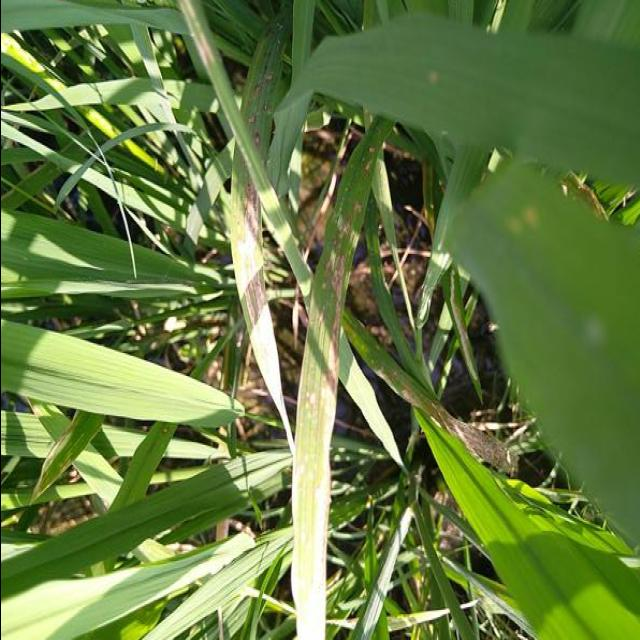Leaf Streak: (290, 121, 379, 640), (343, 309, 511, 472), (229, 142, 294, 455), (29, 409, 104, 505)
